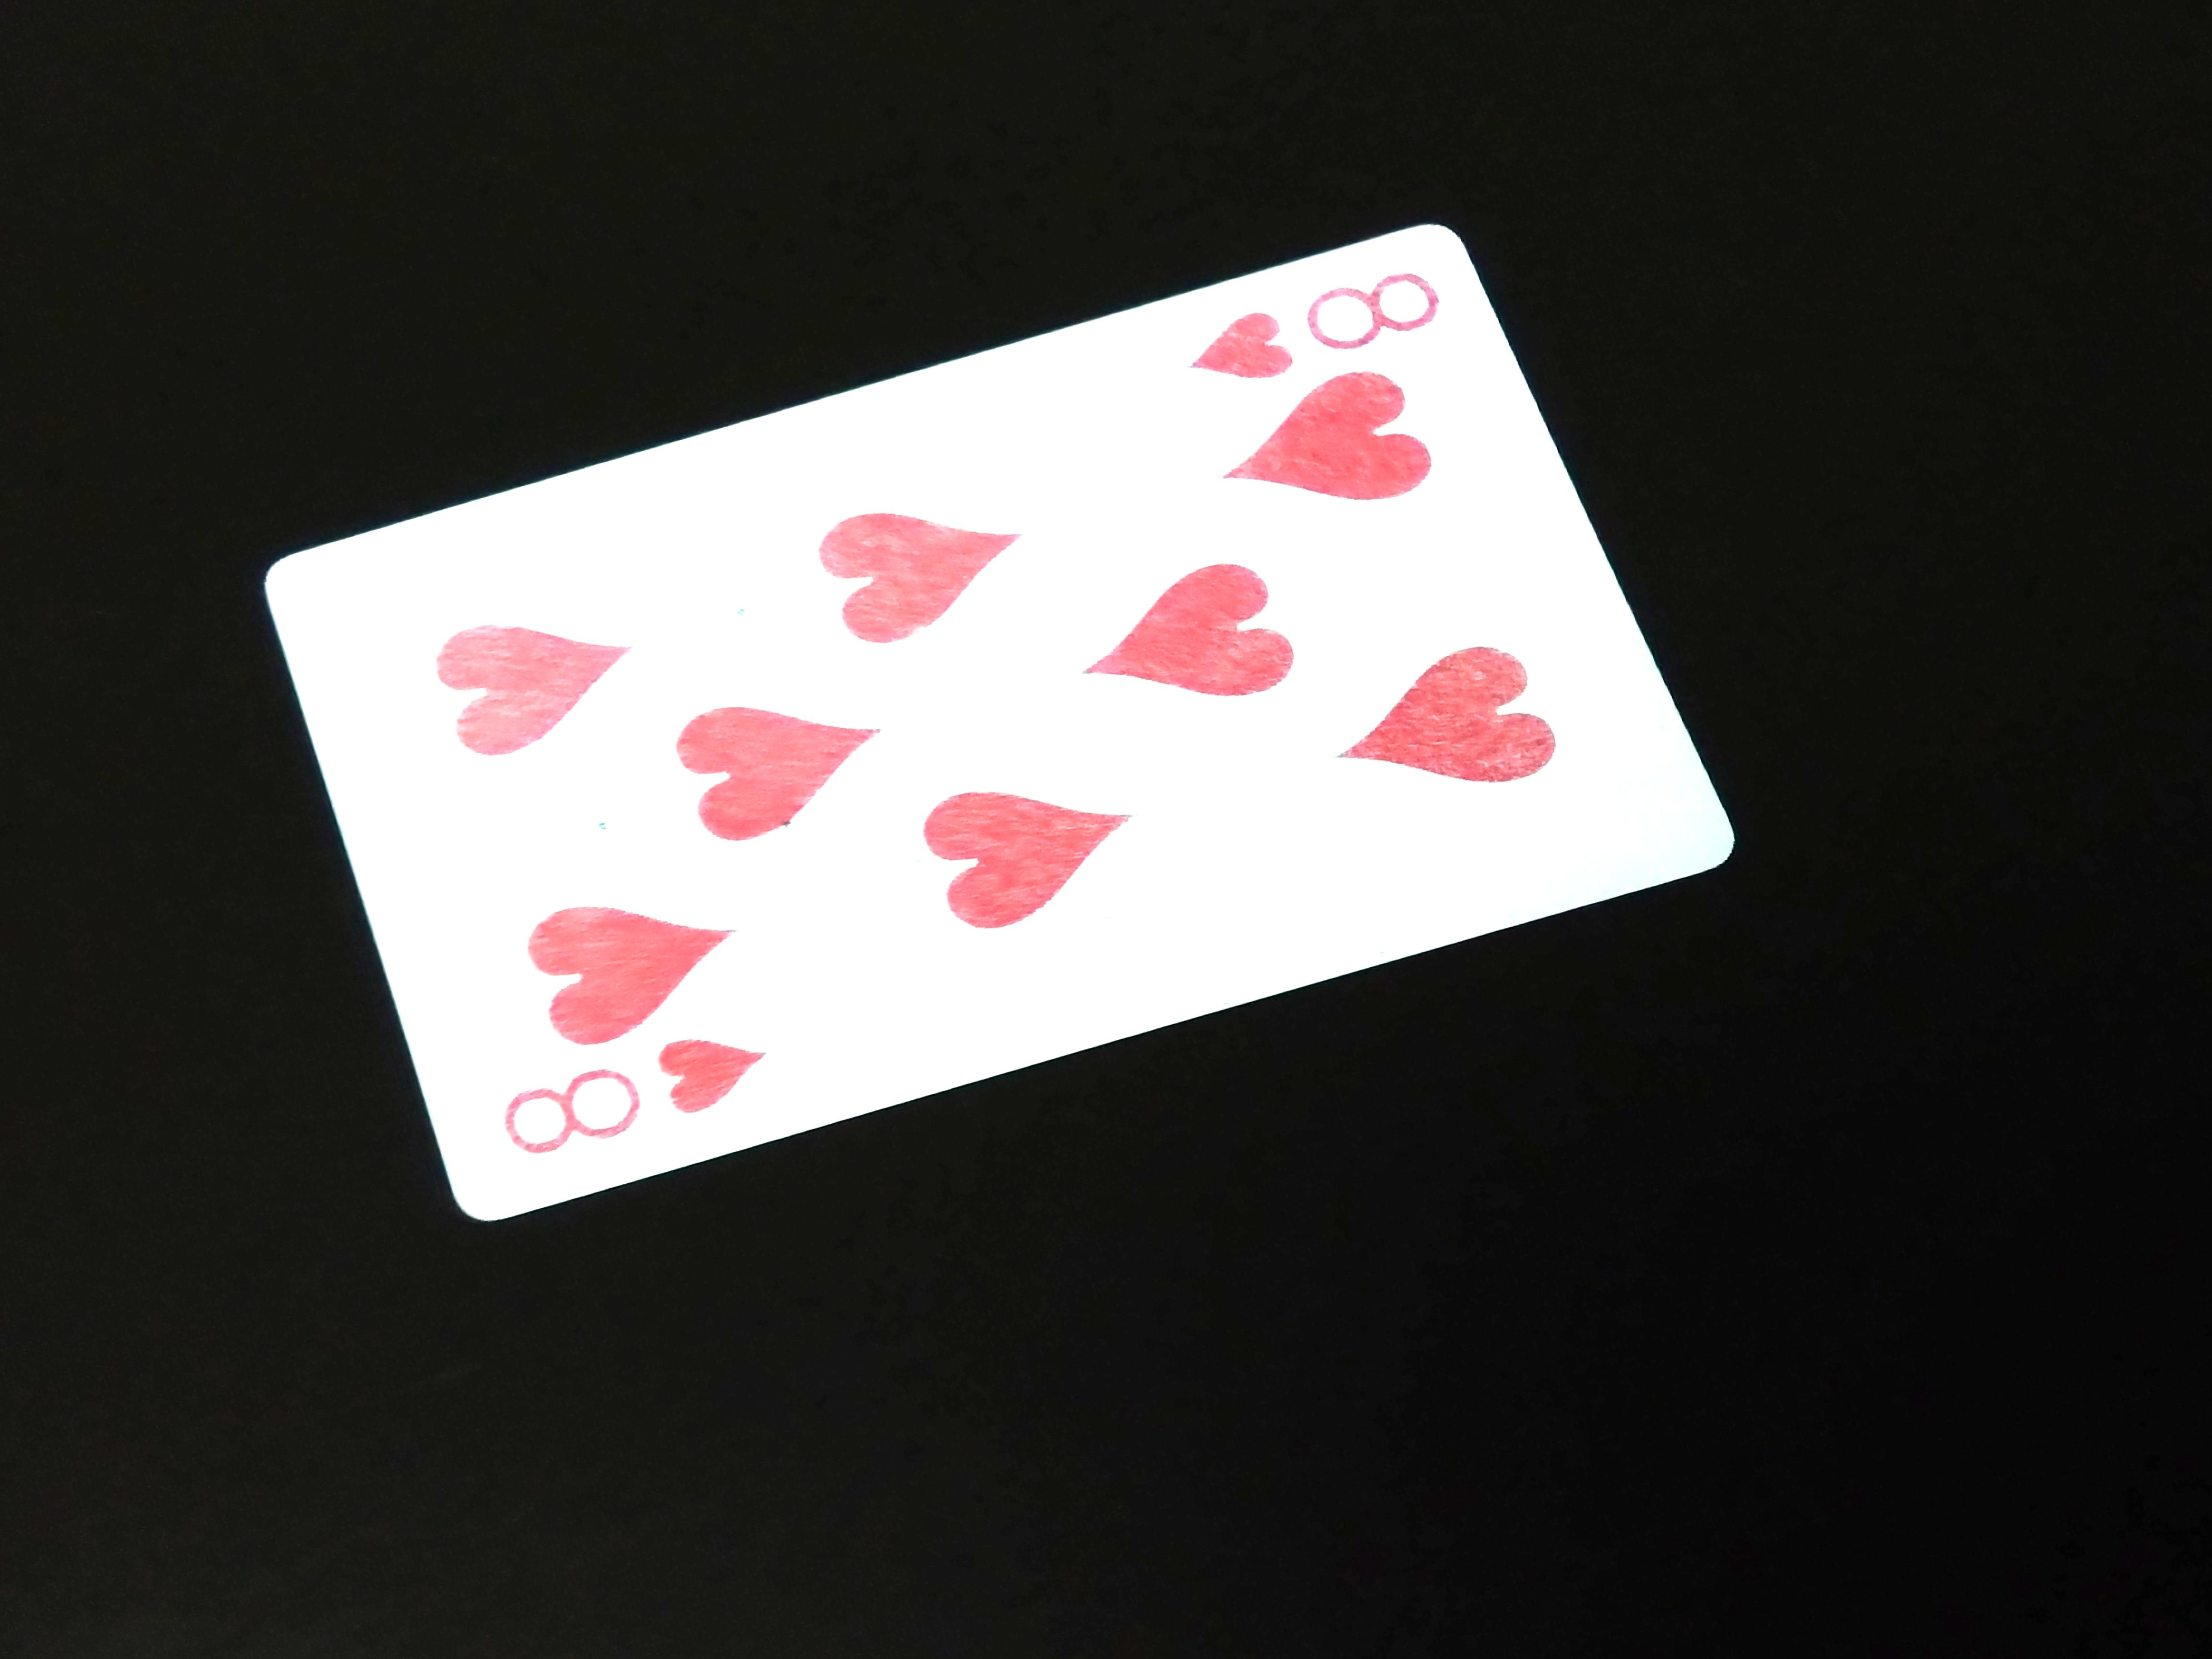8H: (1176, 253, 1435, 406)
